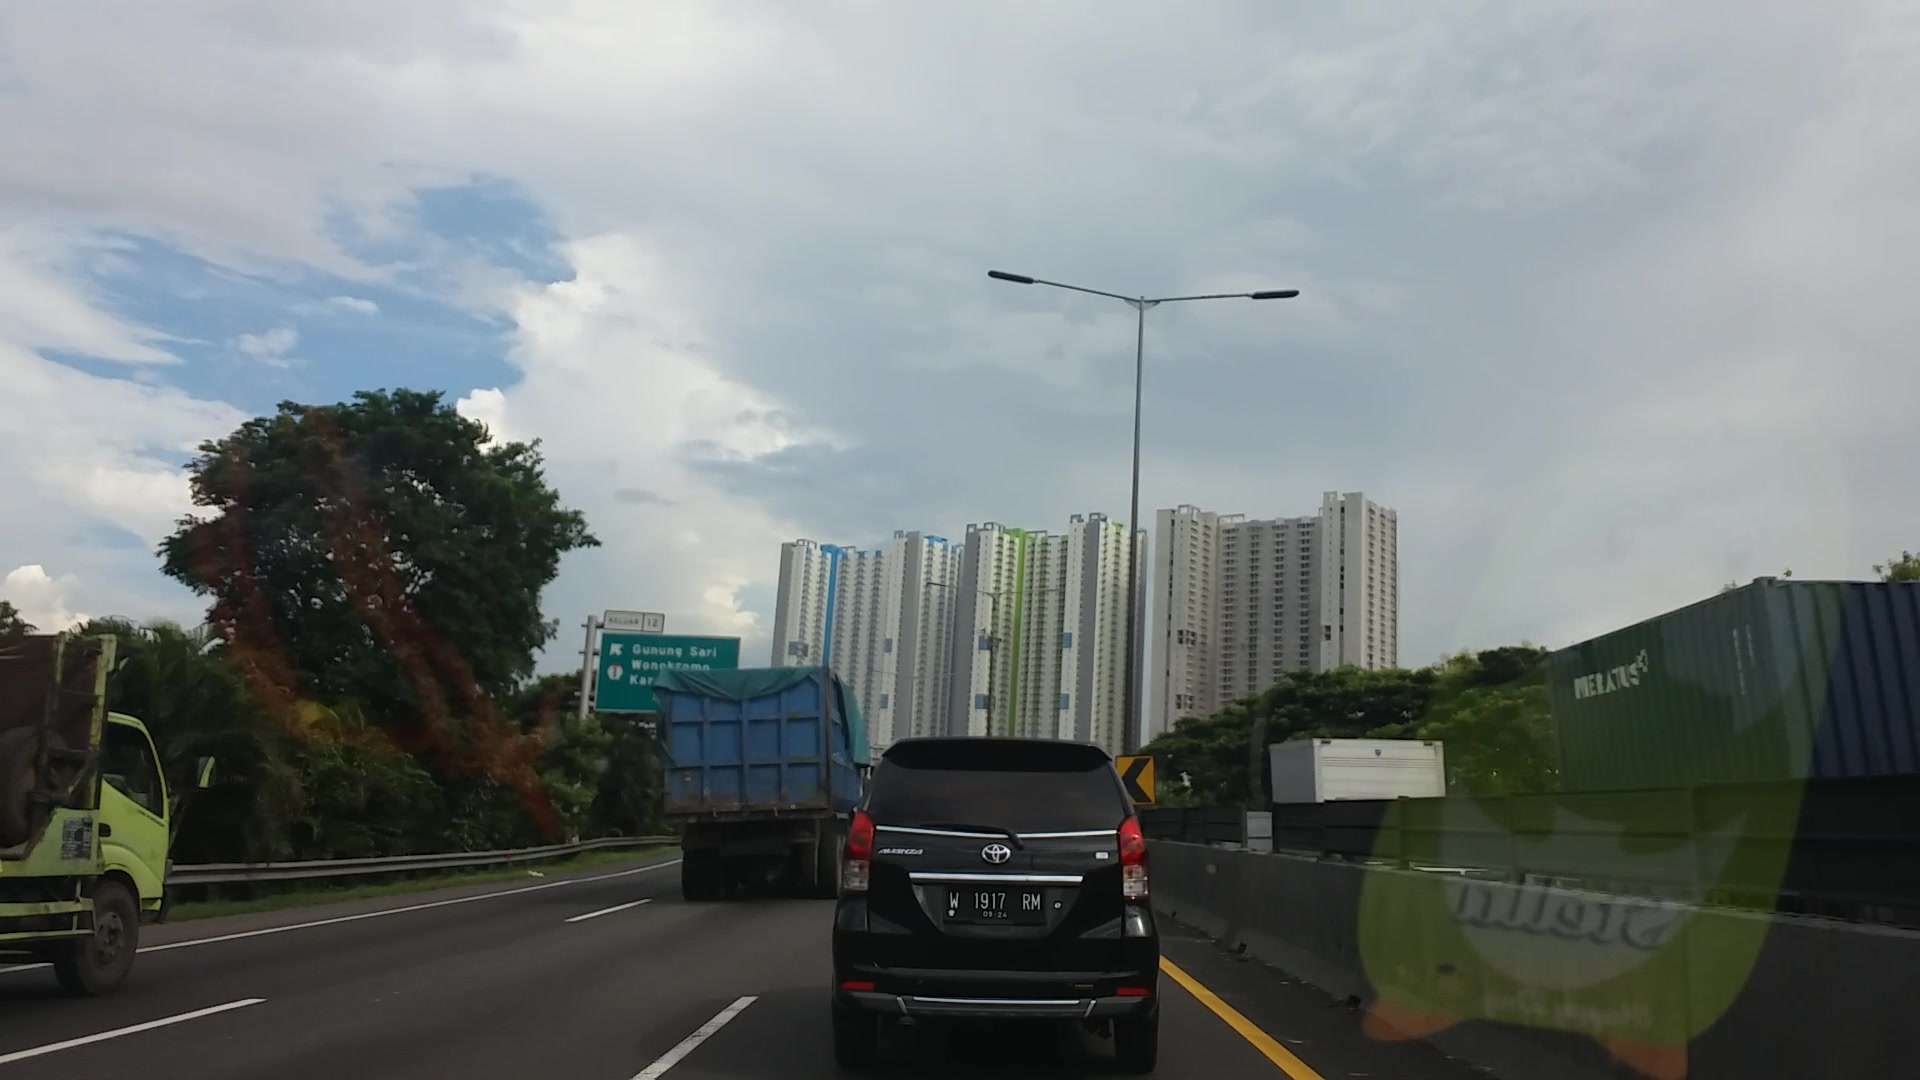plate_positive: (945, 887, 1043, 920)
